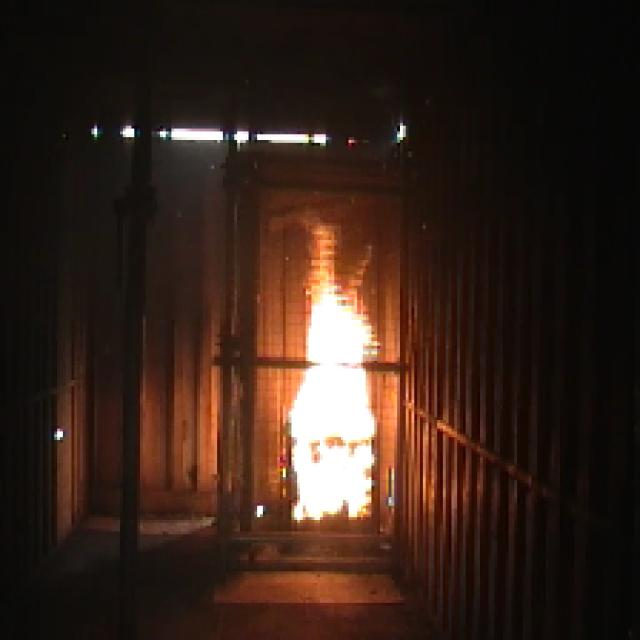fire: (296, 252, 384, 516)
